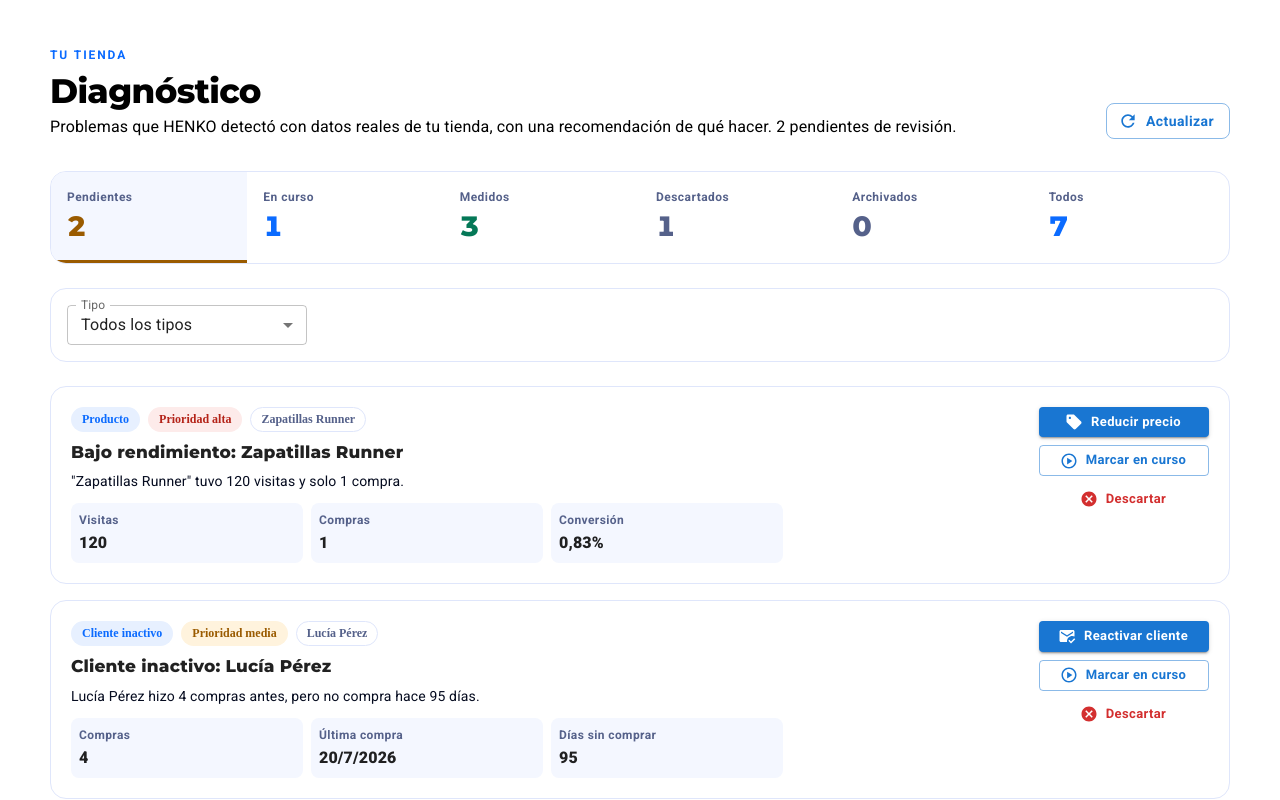
Diagnóstico · acciones que cambian cosas, siempre con confirmación › si falla el envío, el diálogo sigue abierto con el error
The image size is (1280, 800).
Click the button "Reactivar cliente".
click(1124, 636)  # box [1039,621,1209,652]
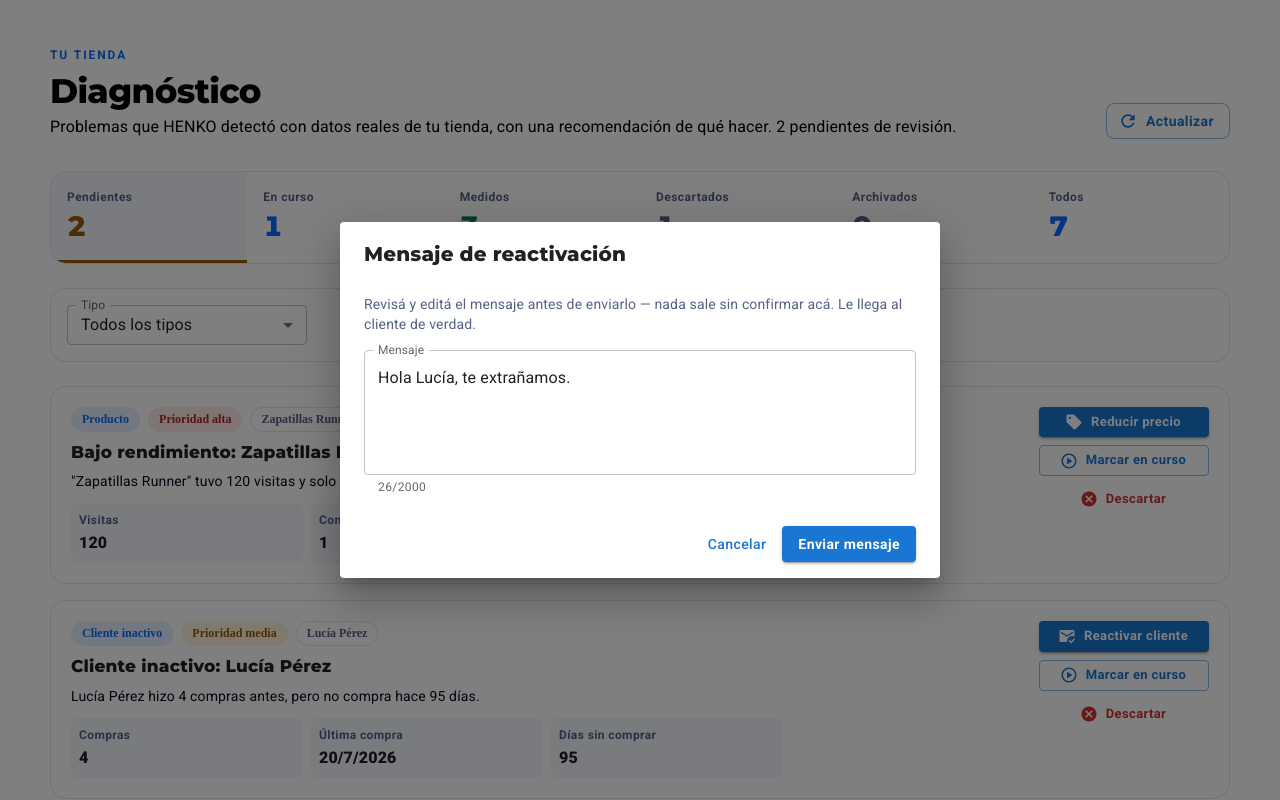
Now the text box labelled "Mensaje" is shown, box [378,366,902,458]
Click the button "Enviar mensaje".
click(849, 544)  # box [782,526,916,562]
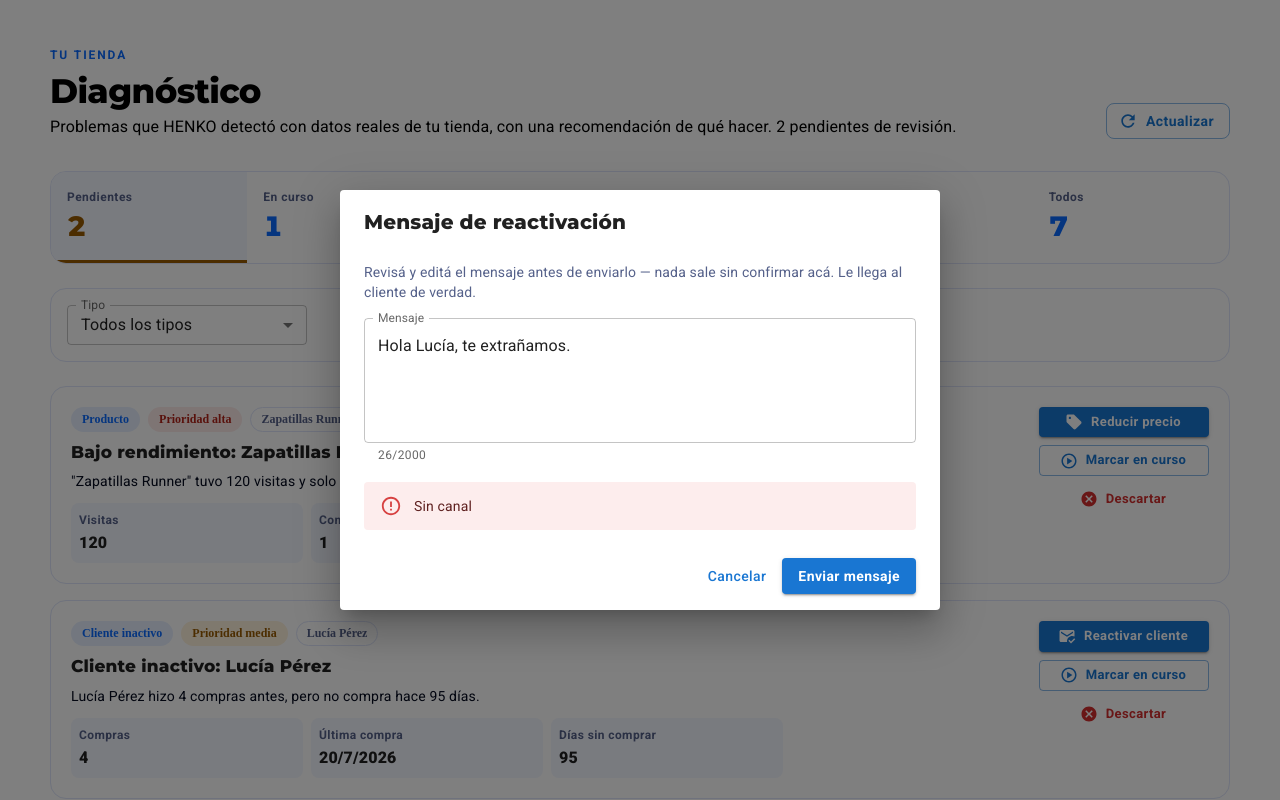
Now the text "Sin canal" is shown, box [414,498,472,514]
